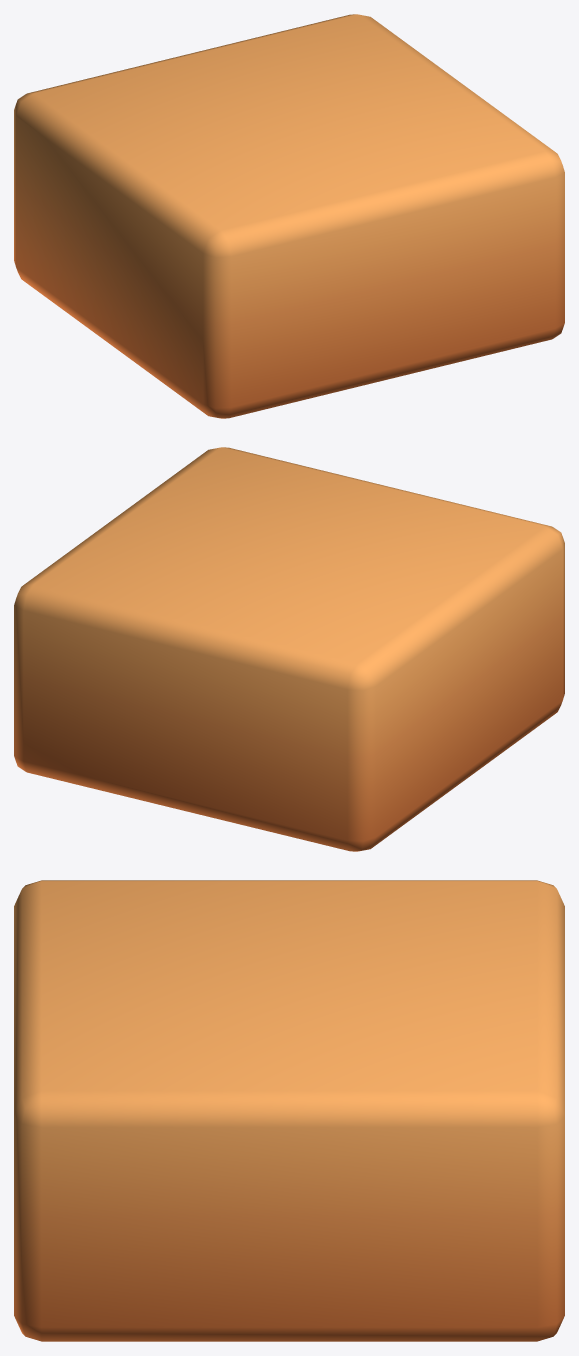
File: 3D_Tile_Ground_02A.fbx
The picture shows the model from 3 angles, top to bottom: view 1: azimuth 30°, elevation 25°; view 2: azimuth 150°, elevation 25°; view 3: azimuth 270°, elevation 25°; orthographic projection. The views are drawn at different scales.
Parts seen in each view (by area): view 1: 3D_Tile_Ground_02A; view 2: 3D_Tile_Ground_02A; view 3: 3D_Tile_Ground_02A.
Boxes of the visible parts, x1=… form: 3D_Tile_Ground_02A: x1=14, y1=14, x2=564, y2=418; 3D_Tile_Ground_02A: x1=14, y1=447, x2=564, y2=851; 3D_Tile_Ground_02A: x1=14, y1=880, x2=564, y2=1341.
Size of the model in its own units: 200 by 100 by 200.
